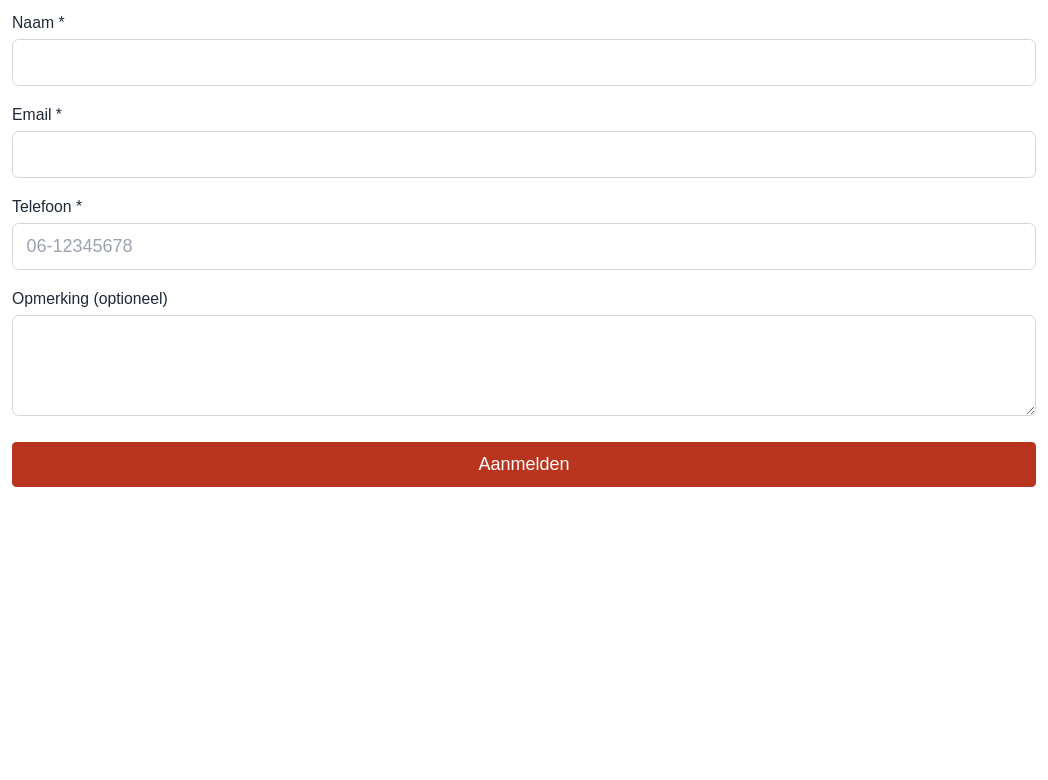
Test case: AanmeldForm Component › Error Handling › 10. Displays error message from API
Type "John Doe" into the field labelled "Naam *". click: (524, 62)
box: [12,39,1036,86]
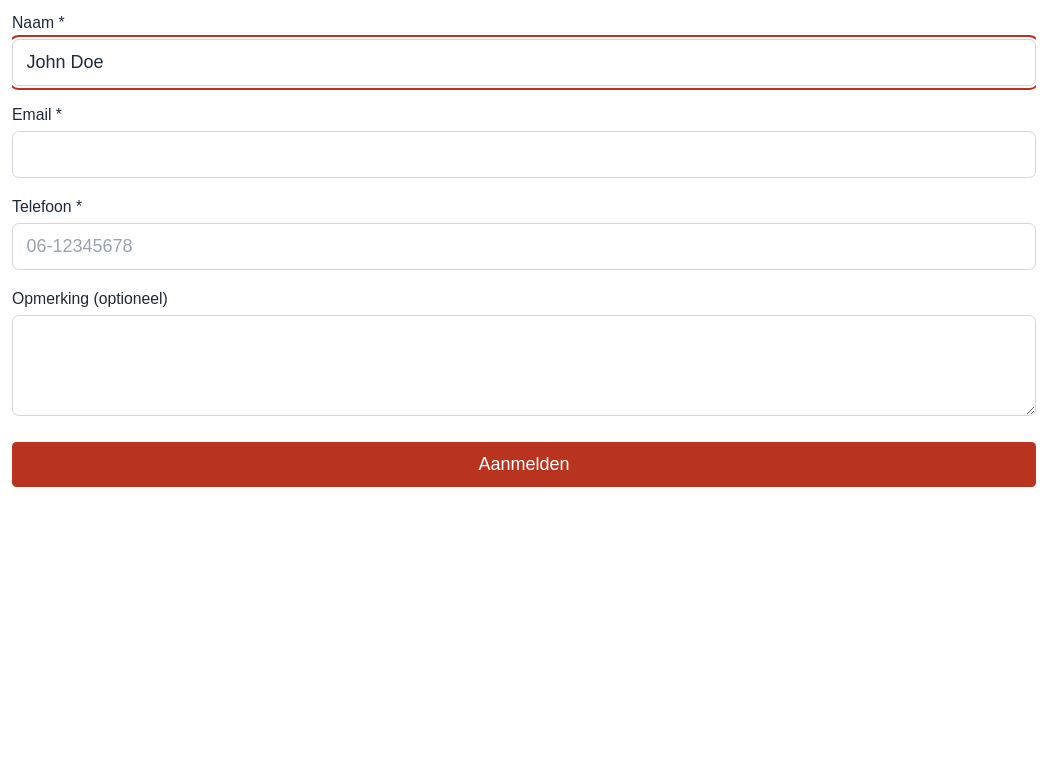
Type "john@example.com" into the field labelled "Email *". click: (524, 154)
box: [12,131,1036,178]
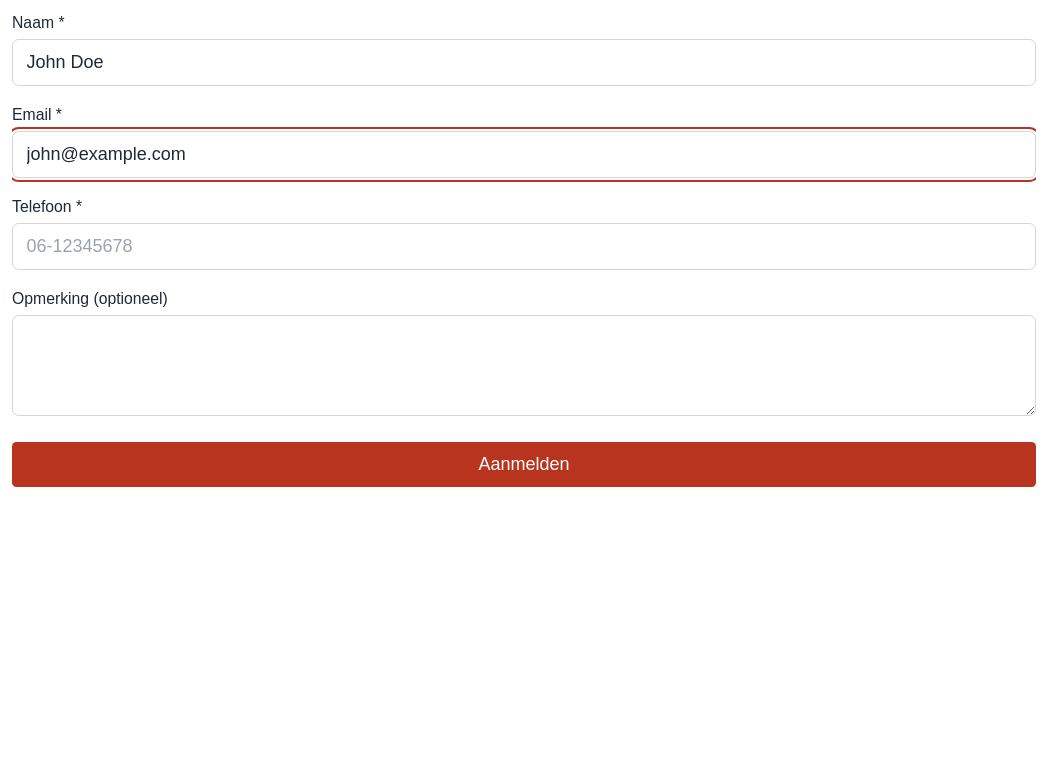
Type "0612345678" into the field labelled "Telefoon *". click: (524, 246)
box: [12,223,1036,270]
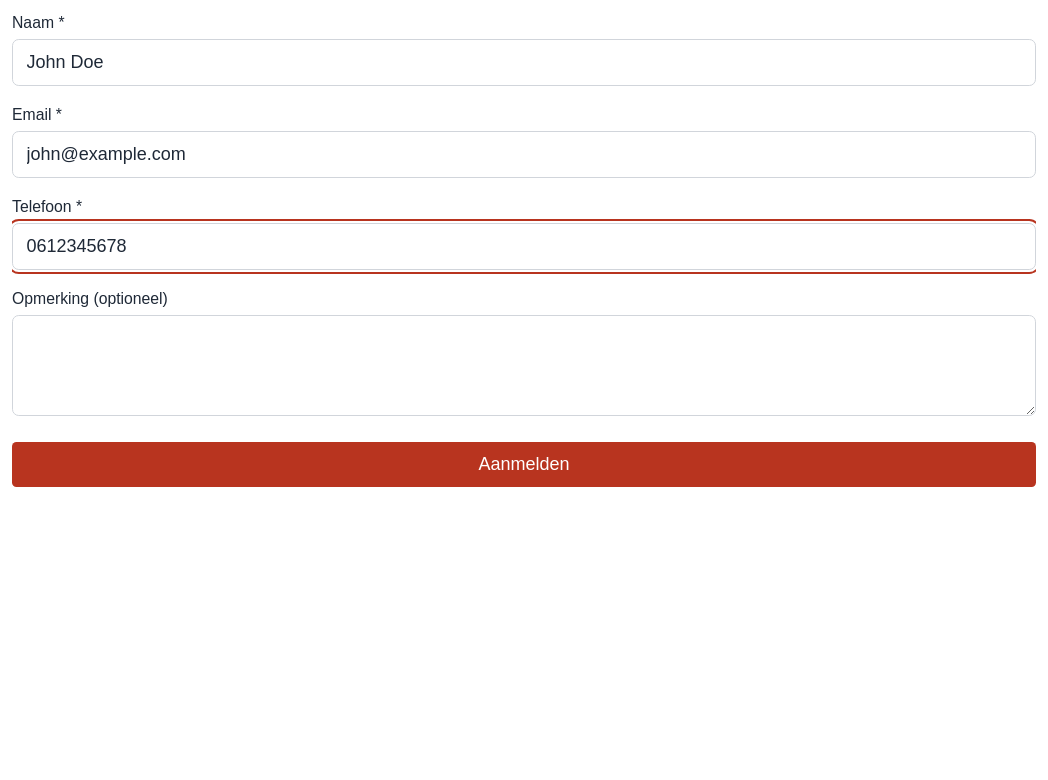
Click the button "Aanmelden". click: (524, 464)
box: [12,442,1036,487]
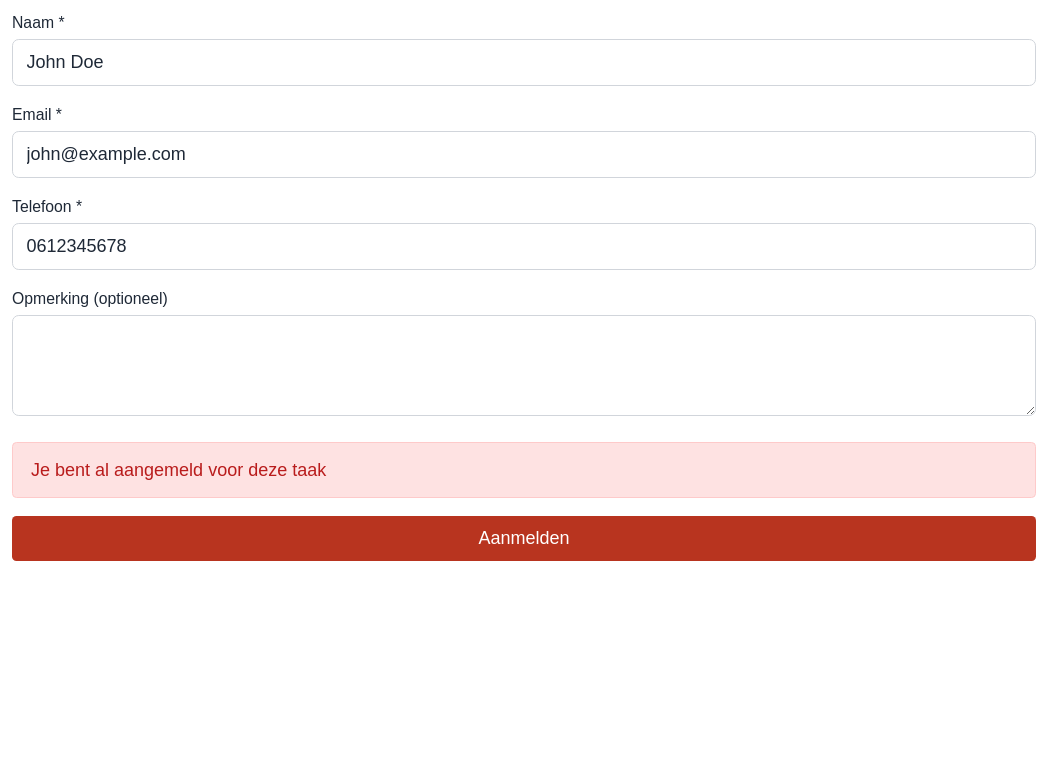
expect the message "Je bent al aangemeld voor deze taak" is shown: met, box [12,442,1036,498]
